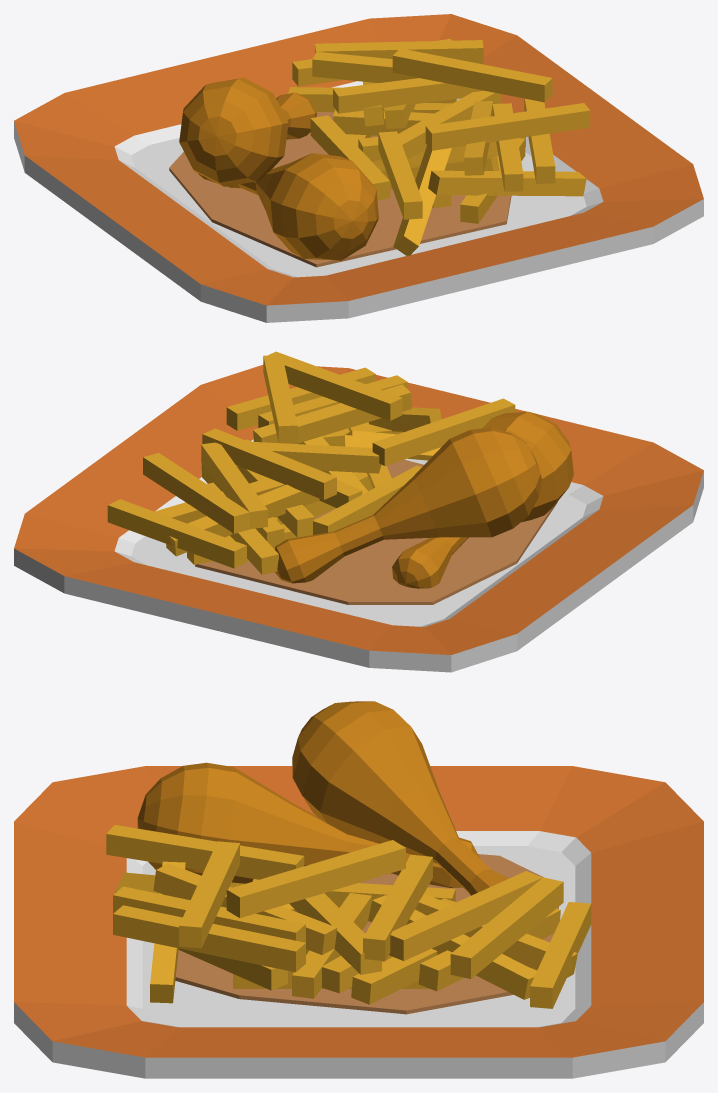
Rendered from R_Dish_3.fbx.
3 renders of one model, top to bottom at view 1: azimuth 30°, elevation 25°; view 2: azimuth 150°, elevation 25°; view 3: azimuth 270°, elevation 25°, orthographic. The views are drawn at different scales.
Visible parts, largest first — view 1: R_Dish_3; view 2: R_Dish_3; view 3: R_Dish_3.
Boxes of the visible parts, left/top/right/bottom form: R_Dish_3: left=14, top=14, right=703, bottom=322; R_Dish_3: left=14, top=351, right=703, bottom=672; R_Dish_3: left=14, top=701, right=703, bottom=1078.
Bounding box in the file's own units: 200 × 200 × 58.56.
